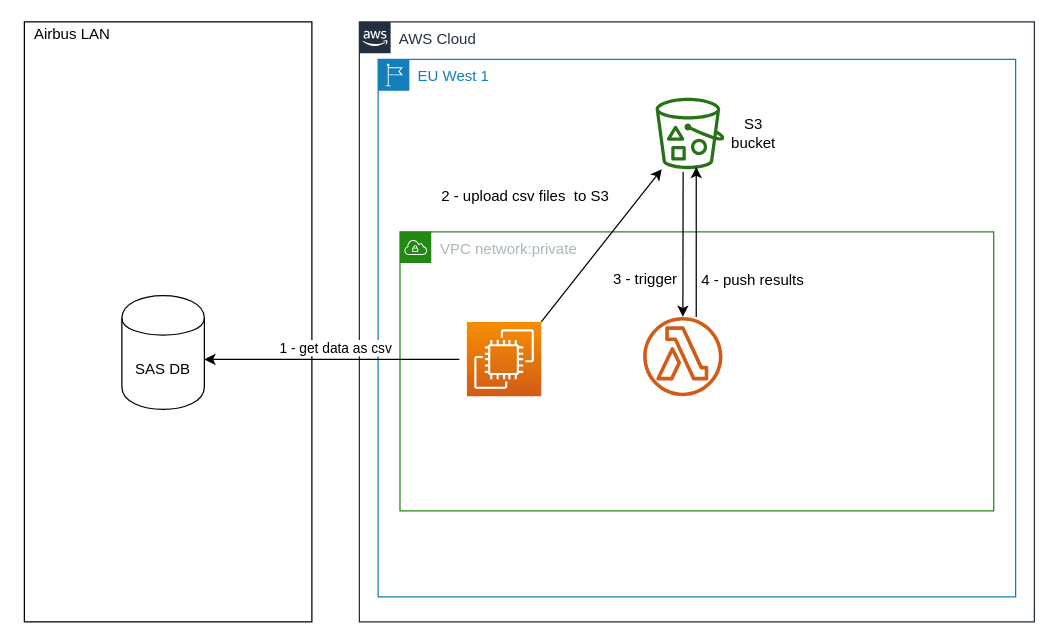
The diagram is 1056 pixels wide and 644 high, and some of its shapes have lost their labels. Each missing label, with the centre of its shape:
"EC2 with crontask" goes at point (503, 358).
"sas monitoring lambda" goes at point (682, 356).
